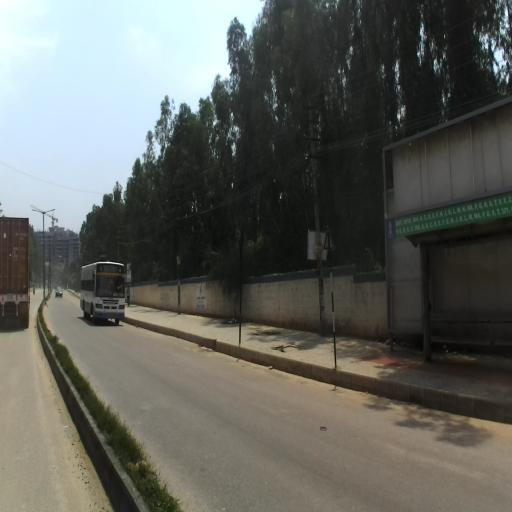street_light_0: (42, 207, 56, 215), (32, 210, 45, 214)
